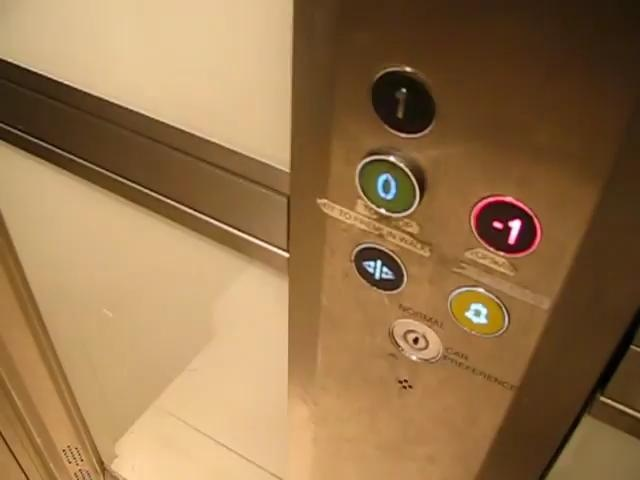-1: (467, 191, 544, 259)
0: (353, 148, 425, 219)
1: (368, 58, 438, 140)
alarm: (446, 283, 511, 340)
keyhole: (387, 314, 448, 368)
open: (350, 241, 410, 296)
